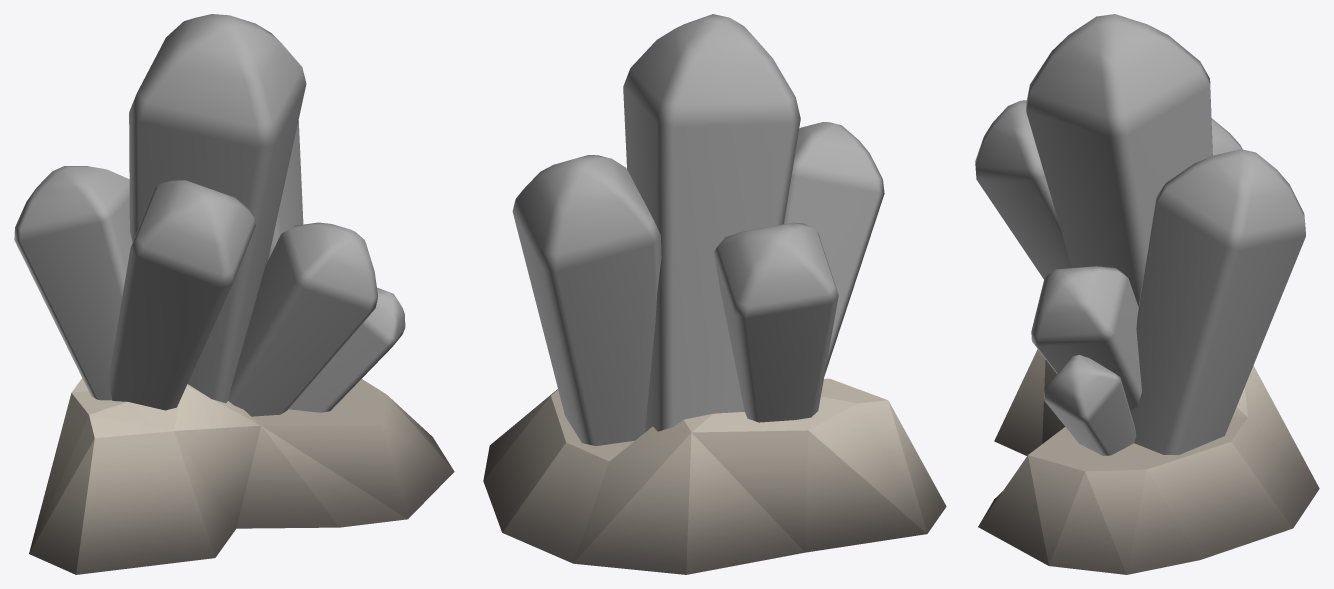
Rendered from SM_Crystal_Node_3.fbx.
3 views of the same model, side by side, from view 1: azimuth 30°, elevation 25°; view 2: azimuth 150°, elevation 25°; view 3: azimuth 270°, elevation 25° (orthographic). The views are drawn at different scales.
Visible parts, largest first — view 1: Crystal_Node_3; view 2: Crystal_Node_3; view 3: Crystal_Node_3.
Part boxes in pixels (box(x1,y1,x2,y2)): Crystal_Node_3: box(14, 14, 454, 574); Crystal_Node_3: box(483, 14, 946, 574); Crystal_Node_3: box(975, 14, 1319, 574).
Size of the model in its own units: 283 by 305 by 209.
Materials: 2 (1 with a texture image).
